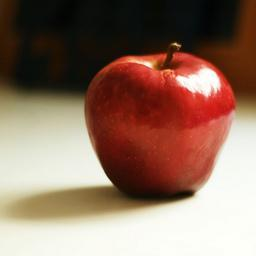apple: (82, 46, 235, 201)
